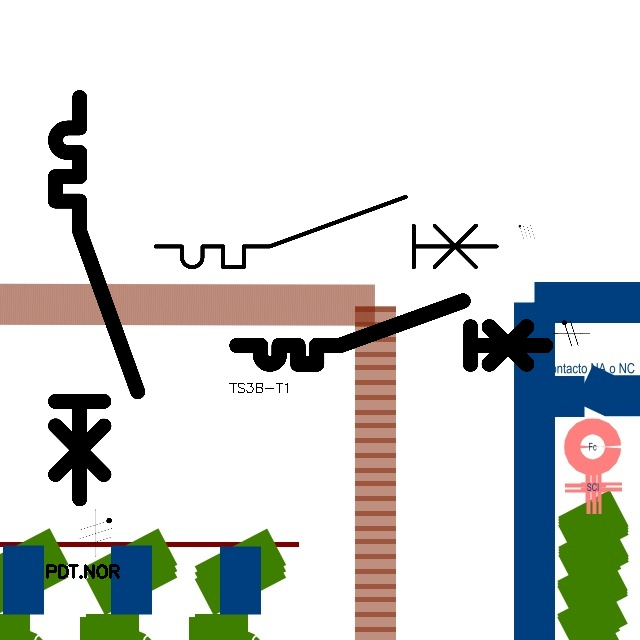interruptor_termomagnetico: (45, 87, 148, 509), (147, 188, 506, 276), (229, 293, 553, 372)
